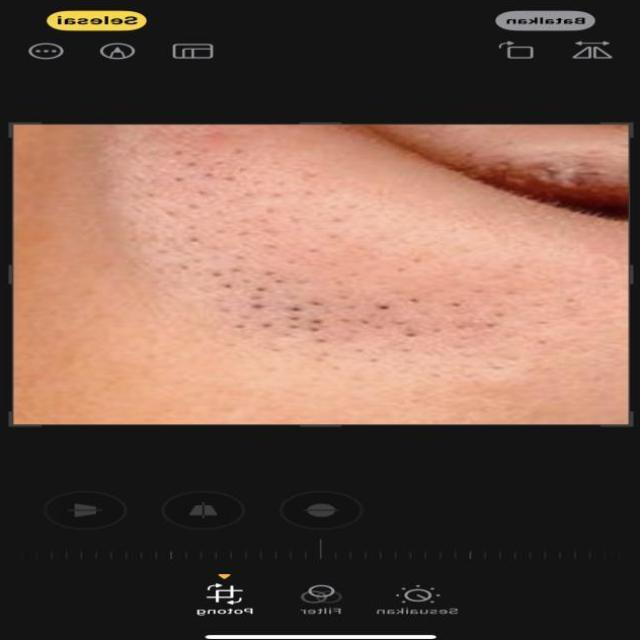blackhead: (138, 140, 540, 363)
